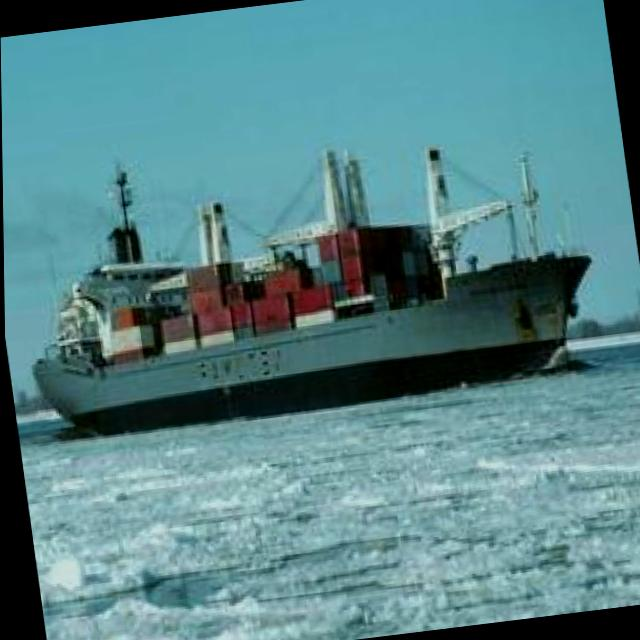ship2: (31, 148, 593, 439)
